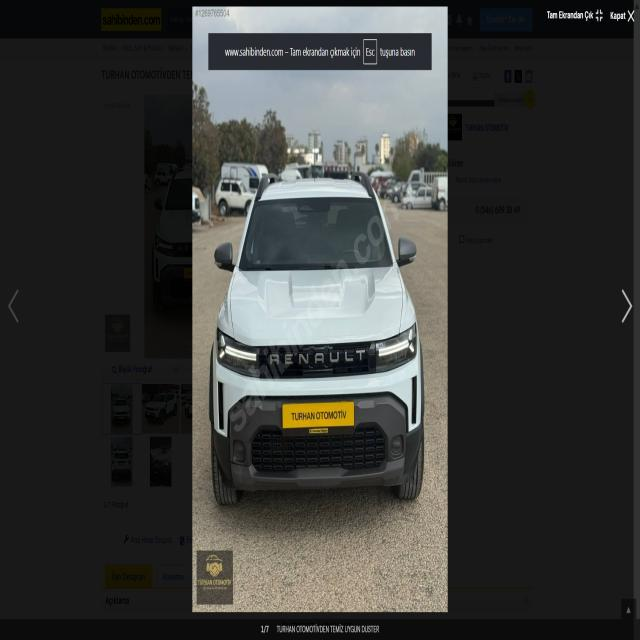renault: (255, 328, 374, 386)
